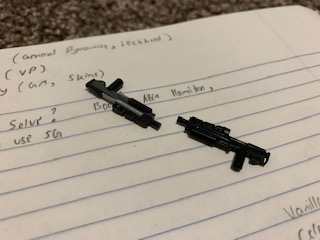rifle: (174, 112, 272, 177), (85, 76, 163, 135)
